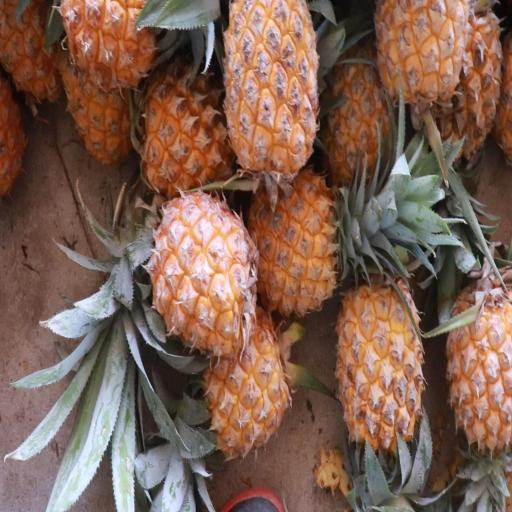Pineapple - v8 v1: (334, 258, 427, 468), (150, 191, 263, 359), (219, 4, 320, 188), (196, 290, 294, 464), (246, 156, 348, 320), (136, 54, 230, 202), (444, 257, 512, 458), (375, 2, 470, 116)
